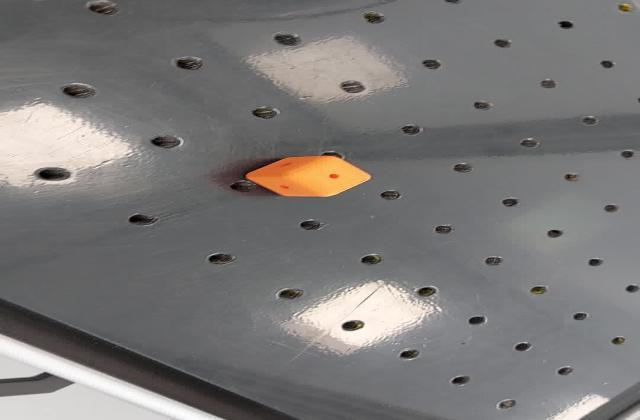cube: (240, 154, 376, 200)
